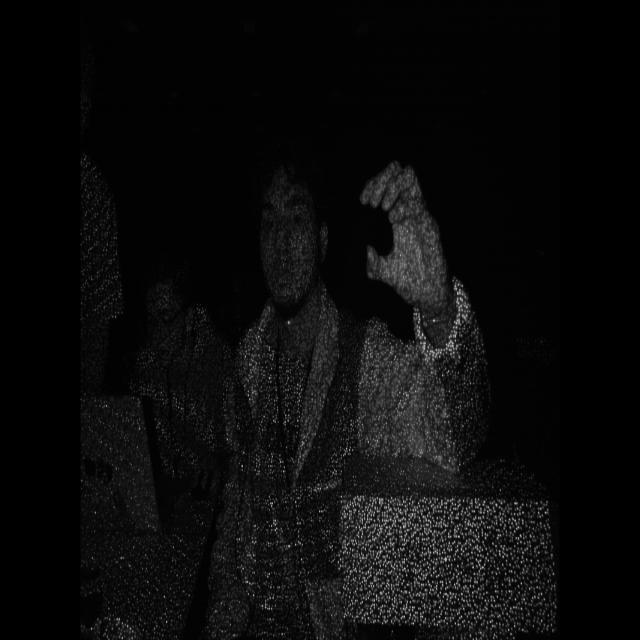C: (343, 128, 447, 332)
